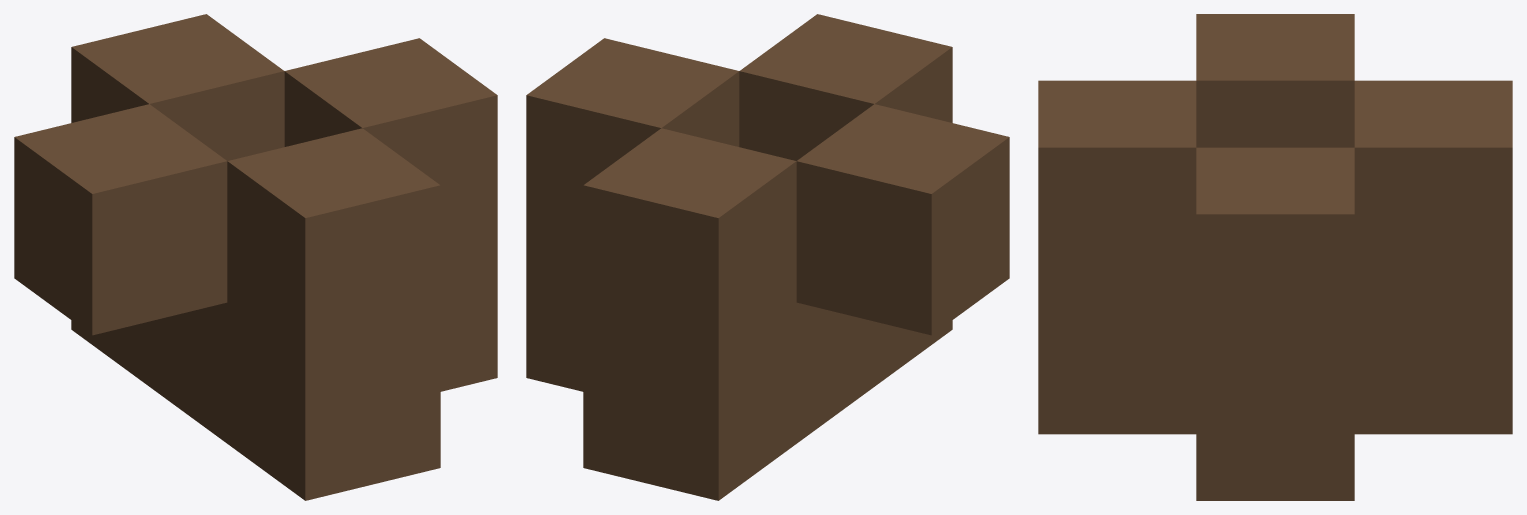
The model's file is Wood_elements_002.glb.
The picture shows the model from 3 angles, left to right: view 1: azimuth 30°, elevation 25°; view 2: azimuth 150°, elevation 25°; view 3: azimuth 270°, elevation 25°; orthographic projection.
Visible parts, largest first — view 1: Wood_elements.002; view 2: Wood_elements.002; view 3: Wood_elements.002.
Part boxes in pixels (<box>): Wood_elements.002: <box>14,14,497,500</box>; Wood_elements.002: <box>526,14,1009,500</box>; Wood_elements.002: <box>1038,14,1512,500</box>.
Size of the model in its own units: 0.282 by 0.188 by 0.282.
1 material, 1 textured.
